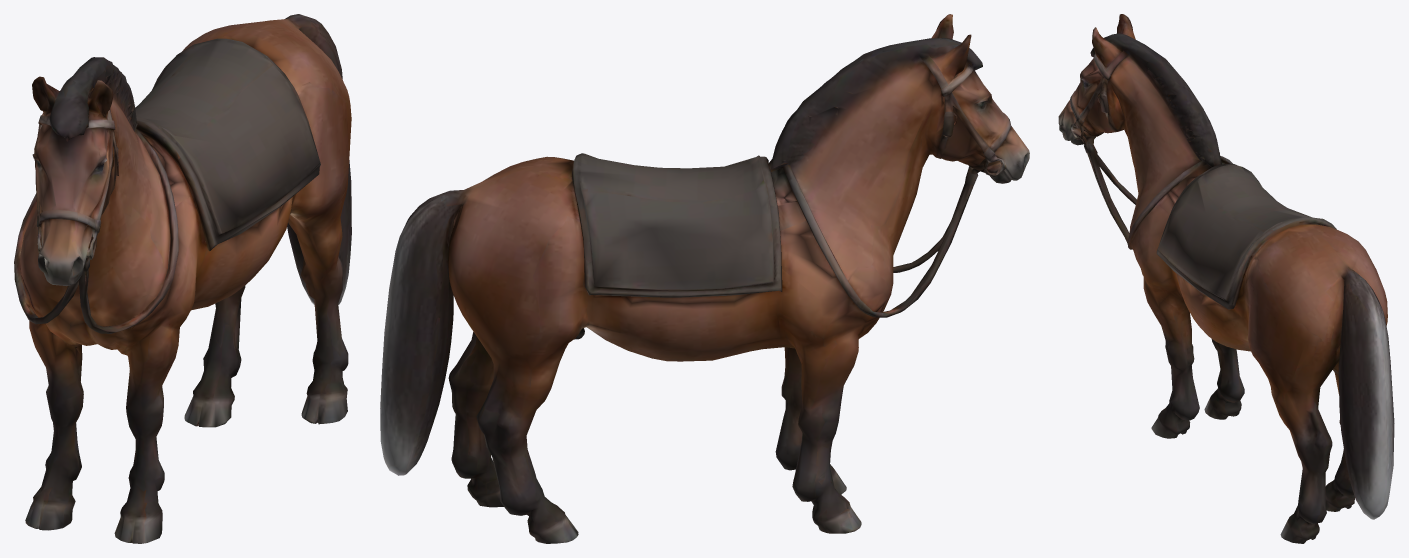
File: horse_lod1.glb
3 renders of one model, left to right at view 1: azimuth 30°, elevation 25°; view 2: azimuth 150°, elevation 25°; view 3: azimuth 270°, elevation 25°, orthographic. The views are drawn at different scales.
Parts seen in each view (by area): view 1: node_0; view 2: node_0; view 3: node_0.
Boxes of the visible parts, x1=… form: node_0: x1=14, y1=14, x2=351, y2=543; node_0: x1=380, y1=14, x2=1029, y2=543; node_0: x1=1058, y1=14, x2=1394, y2=543.
Size of the model in its own units: 0.8464 by 0.8345 by 0.6676.
Materials: 1 (1 with a texture image).
